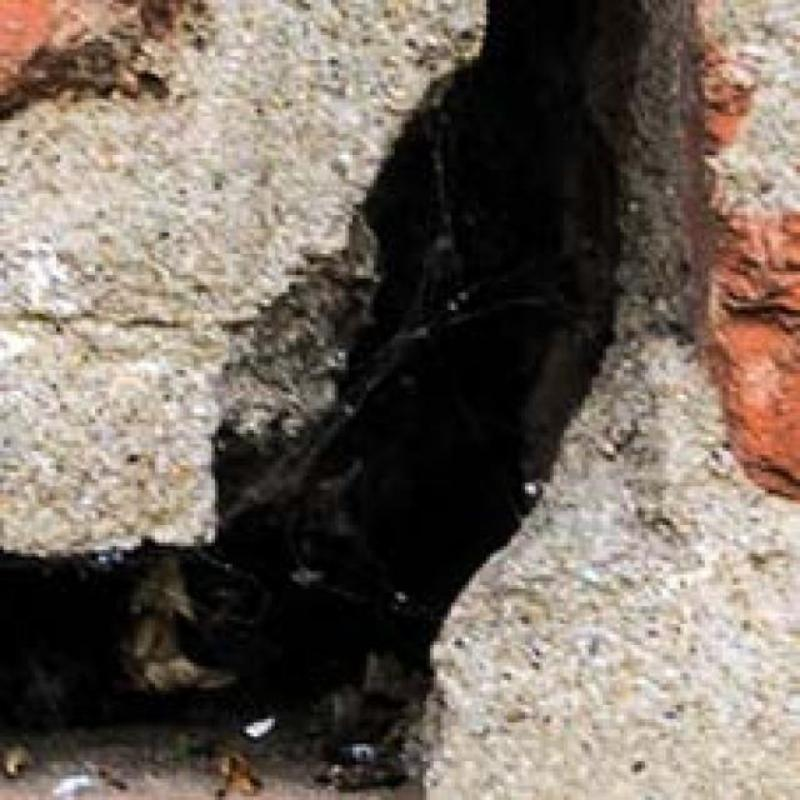pothole: (0, 0, 630, 774)
